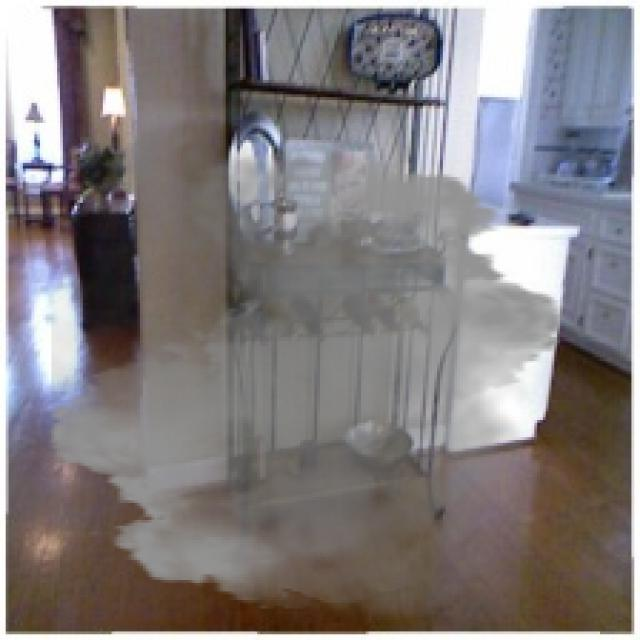smoke: (31, 111, 580, 632)
